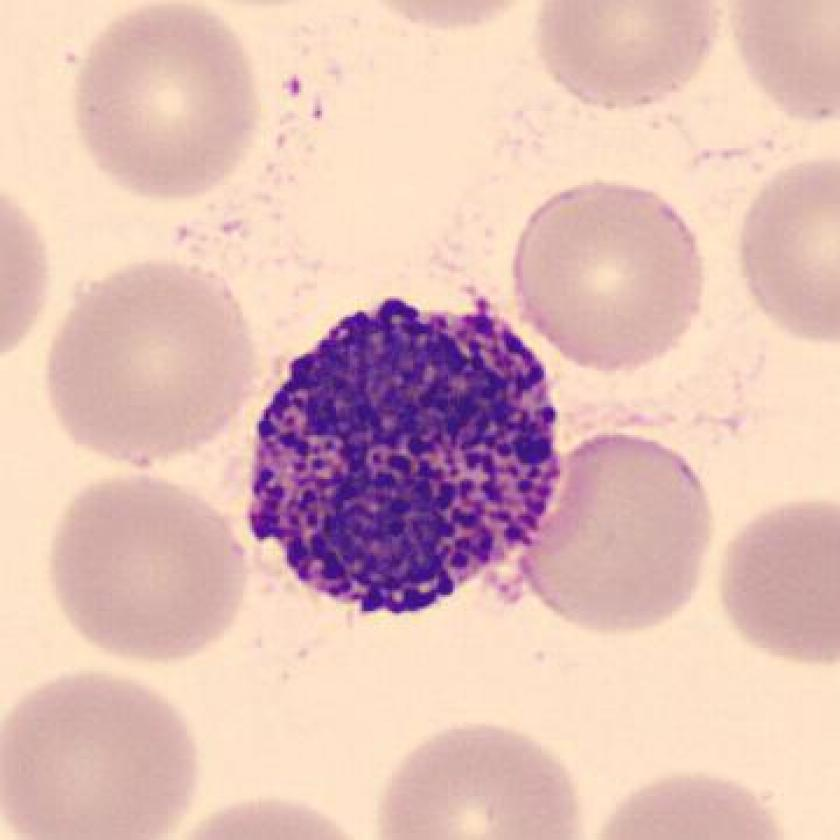basophil: (246, 281, 584, 630)
